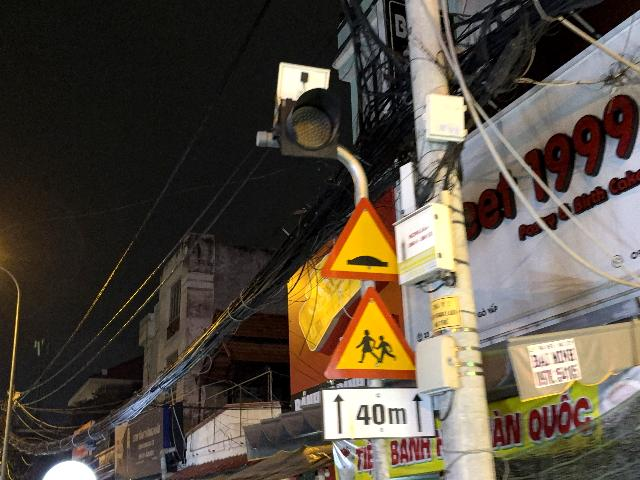duong-co-go-giam-toc: (322, 197, 399, 281)
tre-em-qua-duong: (325, 286, 417, 379)
